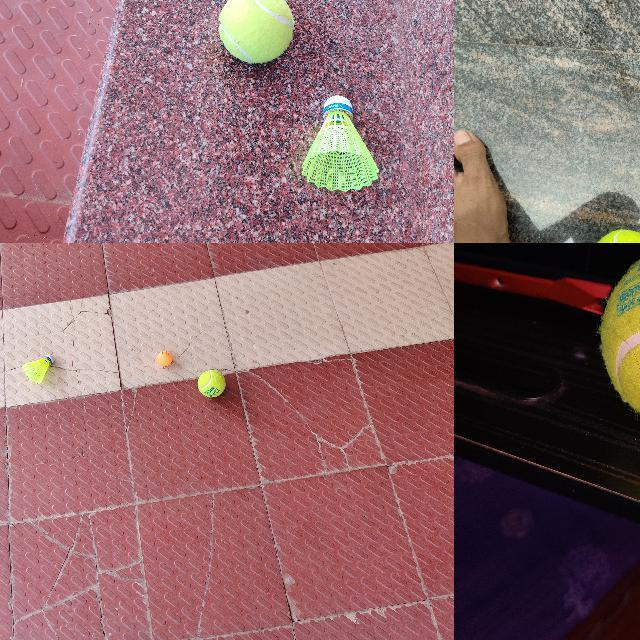tennis-ball: (597, 243, 639, 435), (218, 0, 294, 63), (197, 369, 225, 397)
